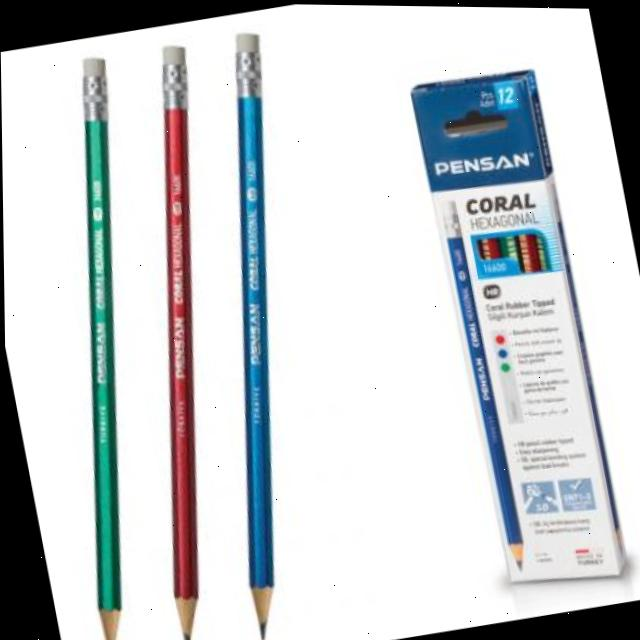pencil: (437, 196, 525, 578), (233, 27, 285, 640), (157, 41, 208, 640), (77, 52, 127, 640)
